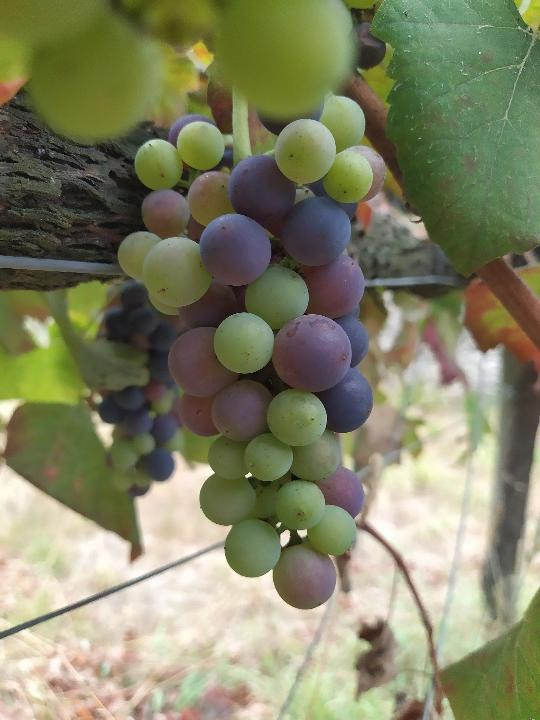grape: (115, 80, 389, 612)
